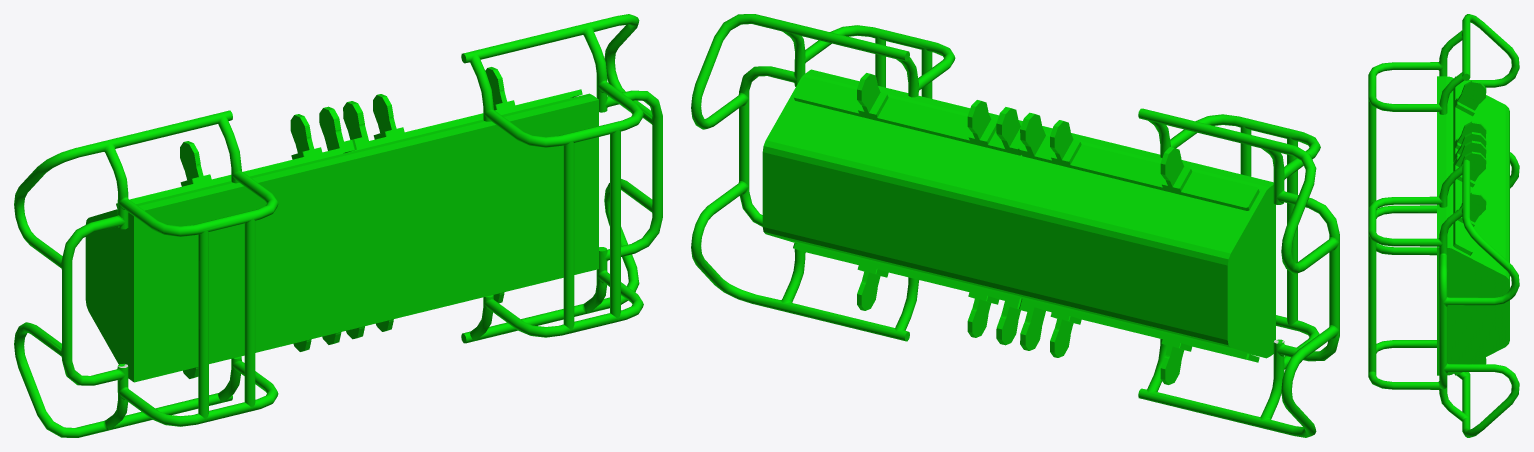
Rendered from trunk.dae.
The picture shows the model from 3 angles, left to right: view 1: azimuth 30°, elevation 25°; view 2: azimuth 150°, elevation 25°; view 3: azimuth 270°, elevation 25°; orthographic projection. The views are drawn at different scales.
Visible parts, largest first — view 1: Frame_000; view 2: Frame_000; view 3: Frame_000.
Boxes of the visible parts, x1,y1,x2,y2 form: Frame_000: (14,14,662,437); Frame_000: (691,14,1339,437); Frame_000: (1368,14,1519,437).
Size of the model in its own units: 1.29 by 0.5954 by 0.3737.
